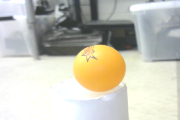PingPongBall: (74, 45, 126, 92)
